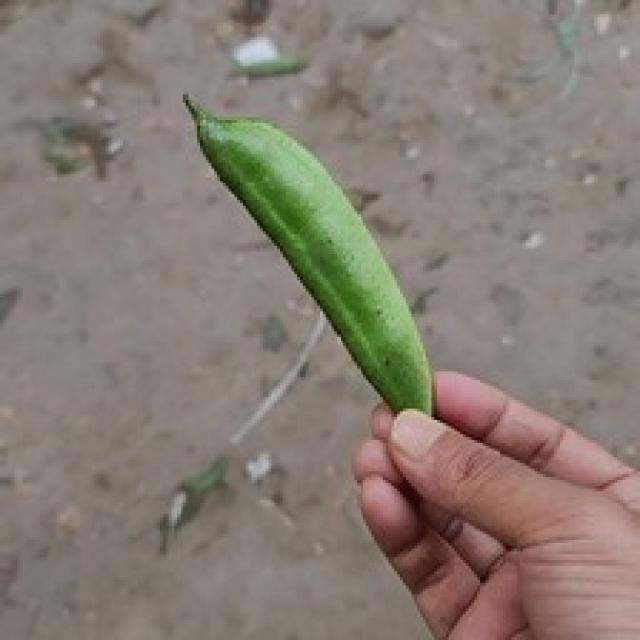Bean: (180, 92, 434, 417)
